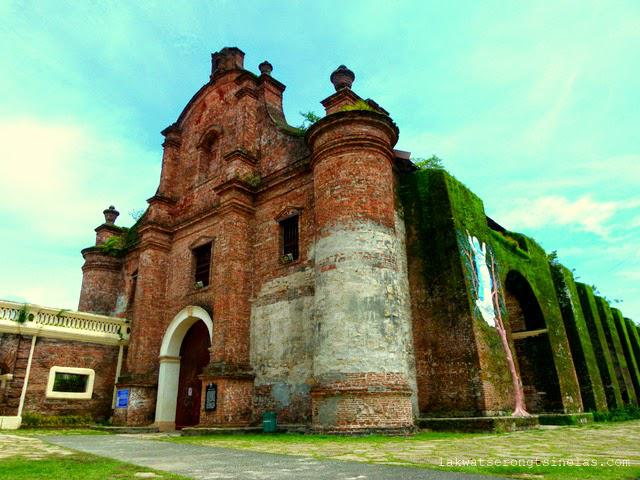Environmental Damage: (103, 228, 143, 252), (333, 97, 378, 116), (299, 109, 321, 130)
Sta. Maria Church: (77, 34, 412, 431)
Unfinished Paint: (256, 228, 408, 372)
